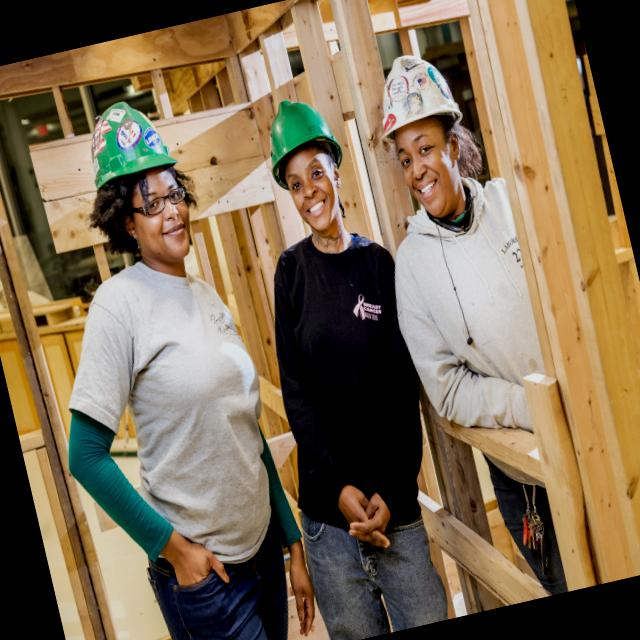helmet: (78, 91, 181, 188), (258, 90, 346, 192), (368, 48, 458, 144)
no-vest: (49, 245, 306, 592), (367, 156, 606, 514), (240, 206, 459, 568)
person: (0, 49, 331, 640), (330, 2, 636, 616), (198, 62, 477, 640)
